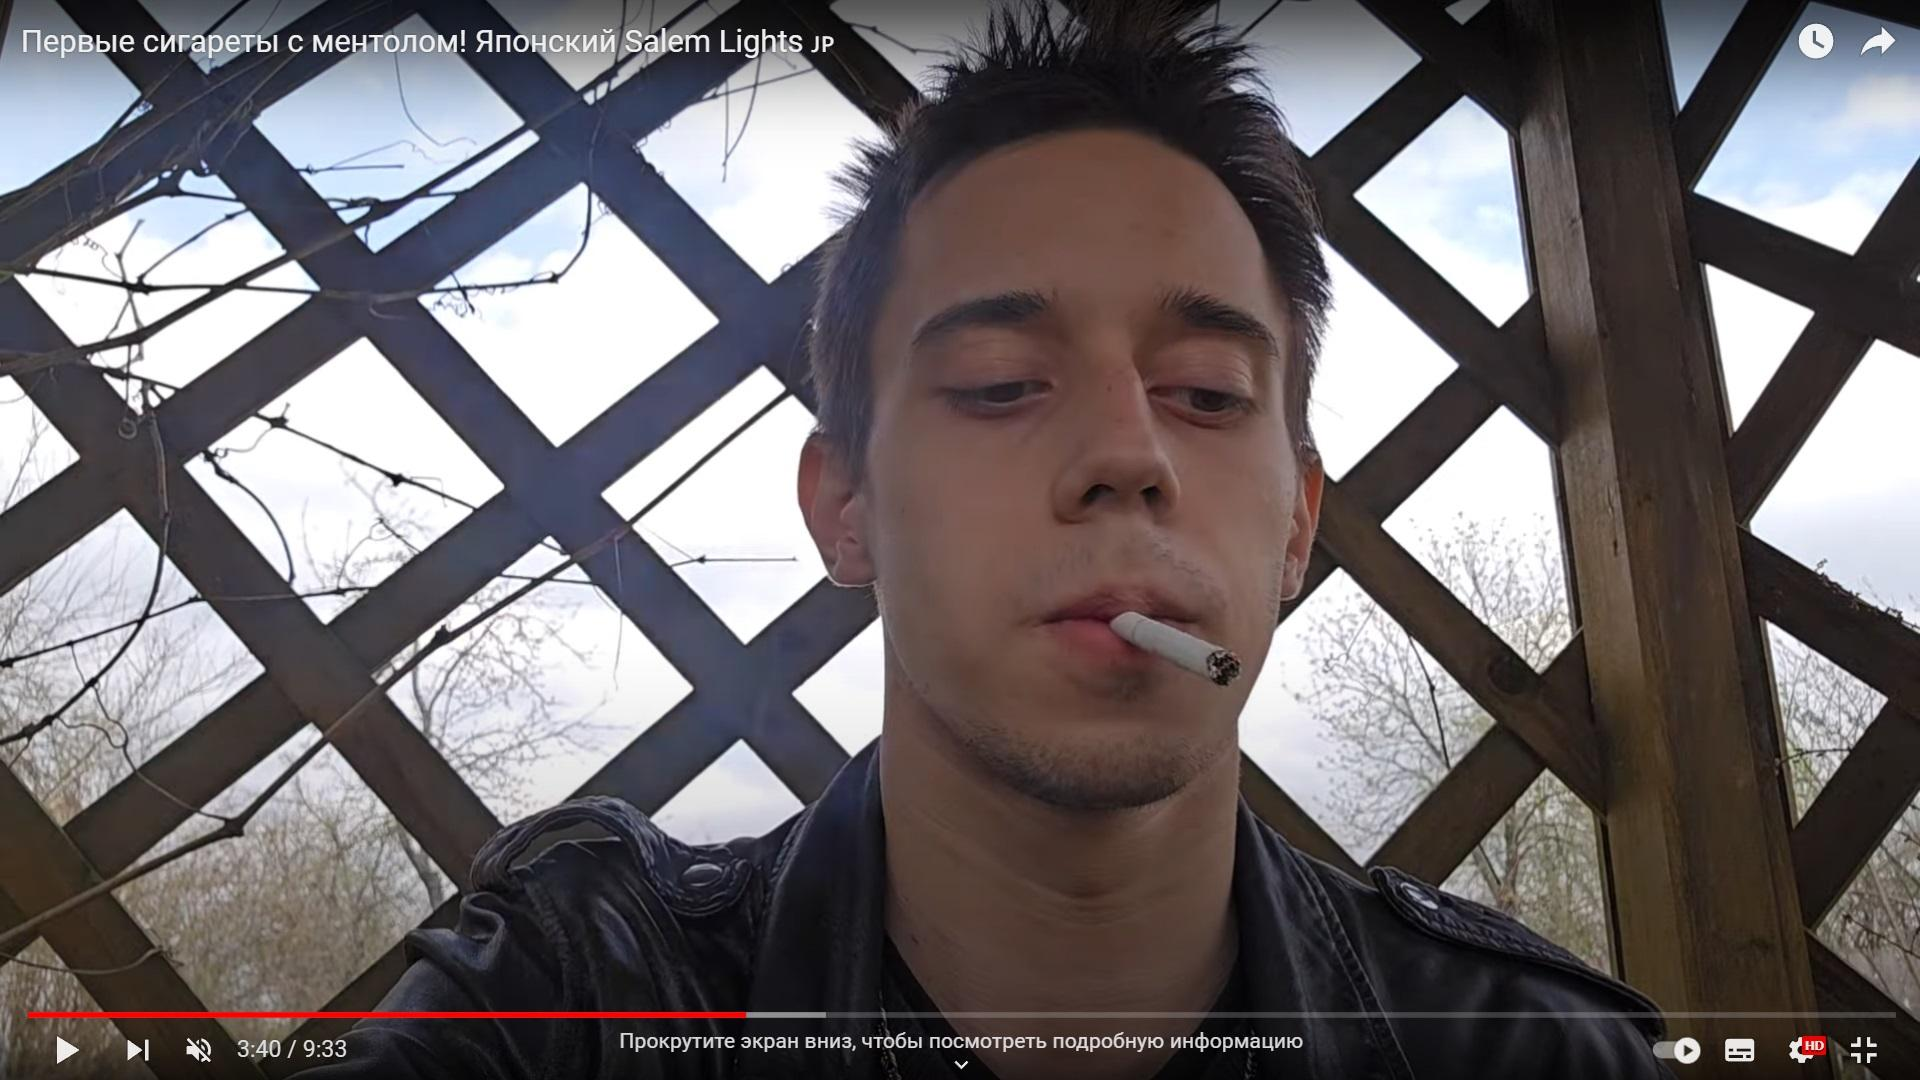cigarette: (1106, 611, 1241, 687)
